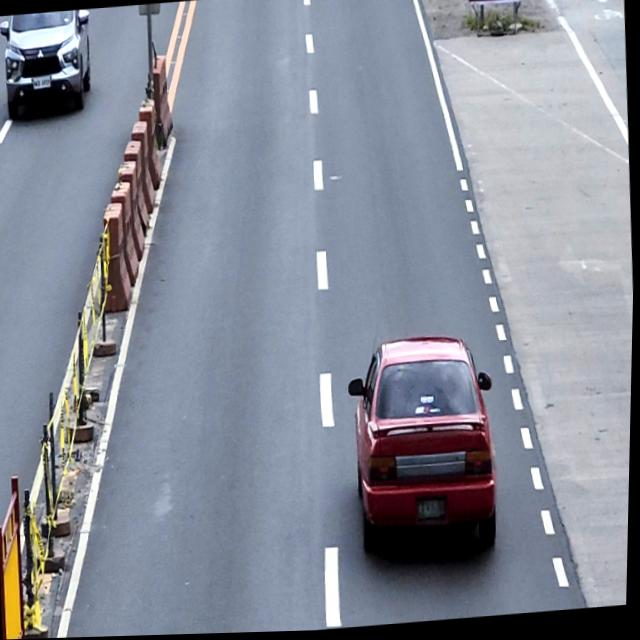Car: (344, 333, 508, 572), (0, 10, 97, 128)
License-Plate: (418, 498, 452, 525), (31, 75, 54, 93)
